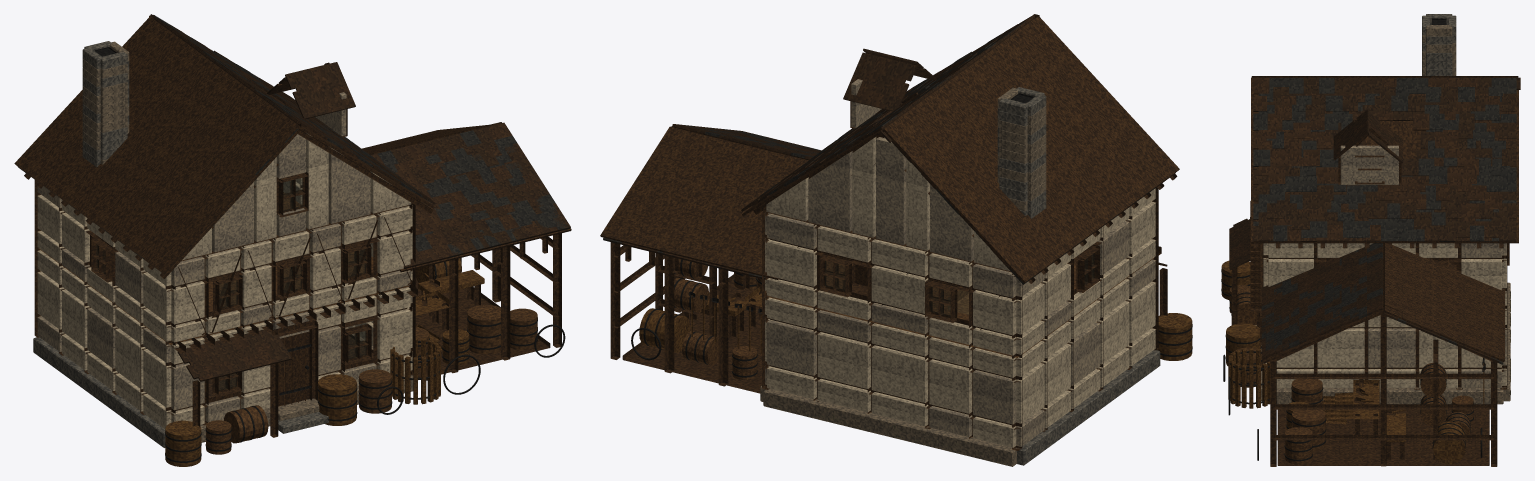
Rendered from medieval_cooperage_house_3d_runtime.glb.
3 views of the same model, side by side, from view 1: azimuth 30°, elevation 25°; view 2: azimuth 150°, elevation 25°; view 3: azimuth 270°, elevation 25° (orthographic). The views are drawn at different scales.
Visible parts, largest first — view 1: HOUSE_ROOF_DECK_-1, PLINTH_LEFT, ATTIC_FRONT_INFILL_5, WORKSHOP_FLOOR, DOOR_COOPERAGE_MAIN_PLANK_BODY, ATTIC_FRONT_INFILL_1, ATTIC_FRONT_INFILL_4, BARREL_3_BODY, ATTIC_FRONT_INFILL_2, FRONT_INFILL_6_1, COOPERAGE_UPPER_FLOOR, BARREL_7_BODY (+61 smaller); view 2: HOUSE_ROOF_DECK_-1, WORKSHOP_ROOF_DECK_1, PLINTH_REAR, WORKSHOP_FLOOR, ATTIC_REAR_INFILL_3, PLINTH_LEFT, ATTIC_REAR_INFILL_5, REAR_INFILL_2_1, REAR_INFILL_3_1, REAR_INFILL_4_1, ATTIC_REAR_INFILL_1, ATTIC_REAR_INFILL_4 (+58 smaller); view 3: WORKSHOP_ROOF_DECK_1, WORKSHOP_FLOOR, HOUSE_ROOF_DECK_1, DORMER_RIGHT_WALL, PLINTH_RIGHT, RIGHT_INFILL_2_1, RIGHT_INFILL_1_1, WORKSHOP_GABLE_RAIL_1.0, WORKSHOP_GABLE_RAIL_2.0, WORKSHOP_GABLE_RAIL_3.0, RIGHT_INFILL_3_1, BARREL_9_BODY (+38 smaller).
Boxes of the visible parts, x1,y1,x2,y2 form: HOUSE_ROOF_DECK_-1: (14, 17, 298, 273); PLINTH_LEFT: (33, 337, 165, 447); ATTIC_FRONT_INFILL_5: (328, 146, 370, 223); WORKSHOP_FLOOR: (415, 277, 550, 377); DOOR_COOPERAGE_MAIN_PLANK_BODY: (278, 329, 311, 406); ATTIC_FRONT_INFILL_1: (212, 182, 253, 252); ATTIC_FRONT_INFILL_4: (306, 133, 328, 229); BARREL_3_BODY: (318, 374, 356, 425); ATTIC_FRONT_INFILL_2: (254, 157, 276, 241); FRONT_INFILL_6_1: (377, 308, 410, 359); COOPERAGE_UPPER_FLOOR: (37, 192, 412, 344); BARREL_7_BODY: (467, 305, 500, 354); HOUSE_ROOF_DECK_-1: (883, 16, 1179, 283); WORKSHOP_ROOF_DECK_1: (600, 126, 808, 279); PLINTH_REAR: (763, 388, 1016, 466); WORKSHOP_FLOOR: (622, 274, 761, 393); ATTIC_REAR_INFILL_3: (876, 137, 906, 245); PLINTH_LEFT: (1016, 350, 1160, 465); ATTIC_REAR_INFILL_5: (808, 151, 852, 231); REAR_INFILL_2_1: (871, 345, 928, 402); REAR_INFILL_3_1: (817, 332, 870, 388); REAR_INFILL_4_1: (767, 319, 816, 375); ATTIC_REAR_INFILL_1: (930, 184, 973, 261); ATTIC_REAR_INFILL_4: (852, 137, 876, 237); WORKSHOP_ROOF_DECK_1: (1383, 243, 1504, 361); WORKSHOP_FLOOR: (1277, 409, 1489, 465); HOUSE_ROOF_DECK_1: (1251, 79, 1518, 243); DORMER_RIGHT_WALL: (1340, 145, 1398, 184); PLINTH_RIGHT: (1268, 387, 1503, 404); RIGHT_INFILL_2_1: (1368, 328, 1415, 367); RIGHT_INFILL_1_1: (1317, 328, 1364, 367); WORKSHOP_GABLE_RAIL_1.0: (1273, 435, 1493, 440); WORKSHOP_GABLE_RAIL_2.0: (1273, 404, 1493, 409); WORKSHOP_GABLE_RAIL_3.0: (1273, 373, 1493, 378); RIGHT_INFILL_3_1: (1419, 330, 1457, 367); BARREL_9_BODY: (1433, 421, 1465, 464).
Size of the model in its own units: 12.9 by 9.42 by 8.85.
Materials: 15 (15 with a texture image).
